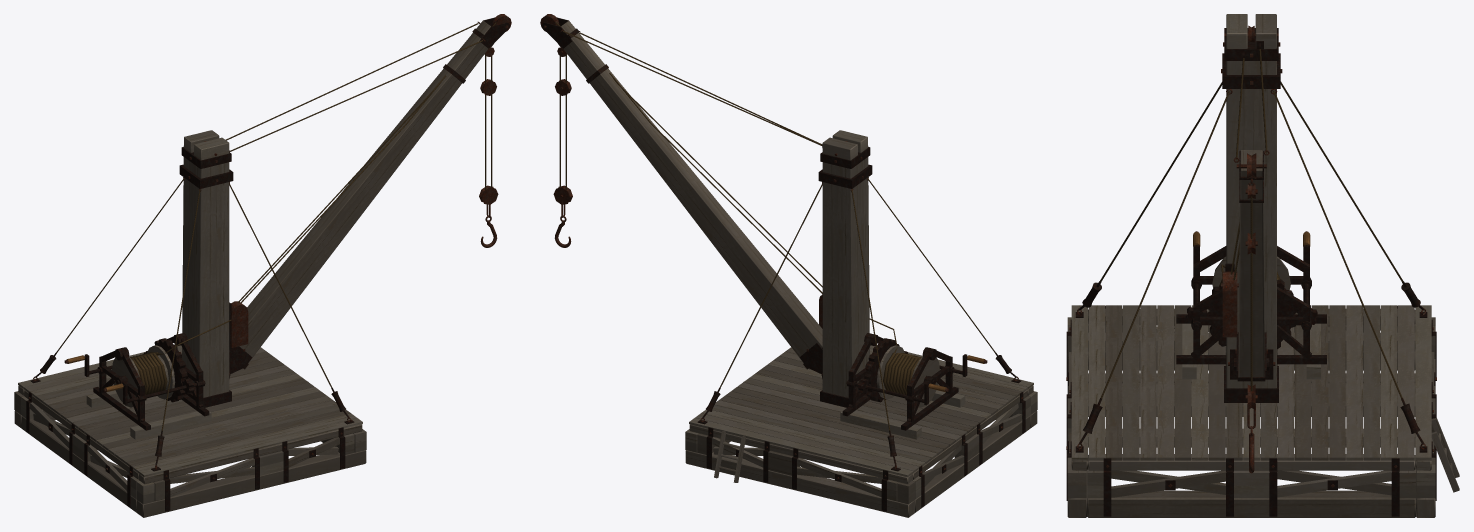
The model's file is port_crane.glb.
3 views of the same model, side by side, from view 1: azimuth 30°, elevation 25°; view 2: azimuth 150°, elevation 25°; view 3: azimuth 270°, elevation 25° (orthographic). The views are drawn at different scales.
Parts seen in each view (by area): view 1: port_crane; view 2: port_crane; view 3: port_crane.
Part boxes in pixels (left/top/right/bottom): port_crane: left=14, top=14, right=511, bottom=517; port_crane: left=540, top=14, right=1037, bottom=517; port_crane: left=1066, top=14, right=1459, bottom=517.
Size of the model in its own units: 10.87 by 8.48 by 6.01.
5 materials, 5 textured.
